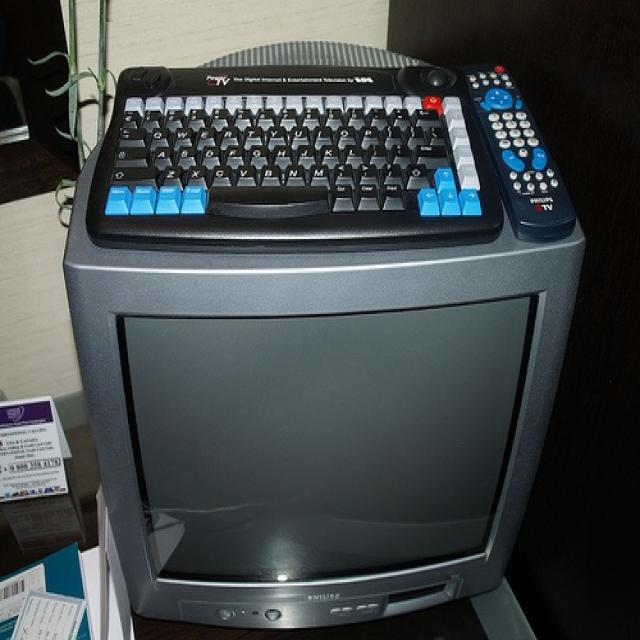tvmonitor: (65, 41, 581, 626)
